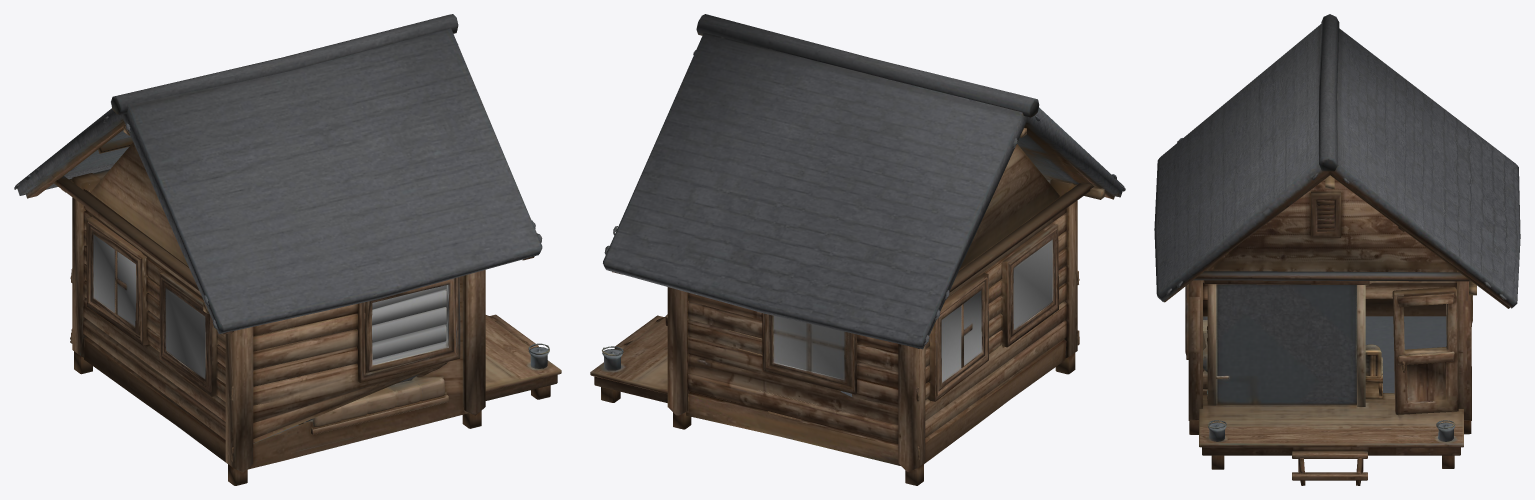
File: tripo_convert_37aab2f1-8467-4680-9fe3-facae13097d7.fbx
3 views of the same model, side by side, from view 1: azimuth 30°, elevation 25°; view 2: azimuth 150°, elevation 25°; view 3: azimuth 270°, elevation 25° (orthographic). The views are drawn at different scales.
Visible parts, largest first — view 1: tripo_node_37aab2f1; view 2: tripo_node_37aab2f1; view 3: tripo_node_37aab2f1.
Boxes of the visible parts, <box> form: tripo_node_37aab2f1: <box>14,14,561,485</box>; tripo_node_37aab2f1: <box>590,14,1125,485</box>; tripo_node_37aab2f1: <box>1154,14,1520,485</box>.
Size of the model in its own units: 0.998 by 0.8184 by 0.9004.
Materials: 1 (1 with a texture image).
